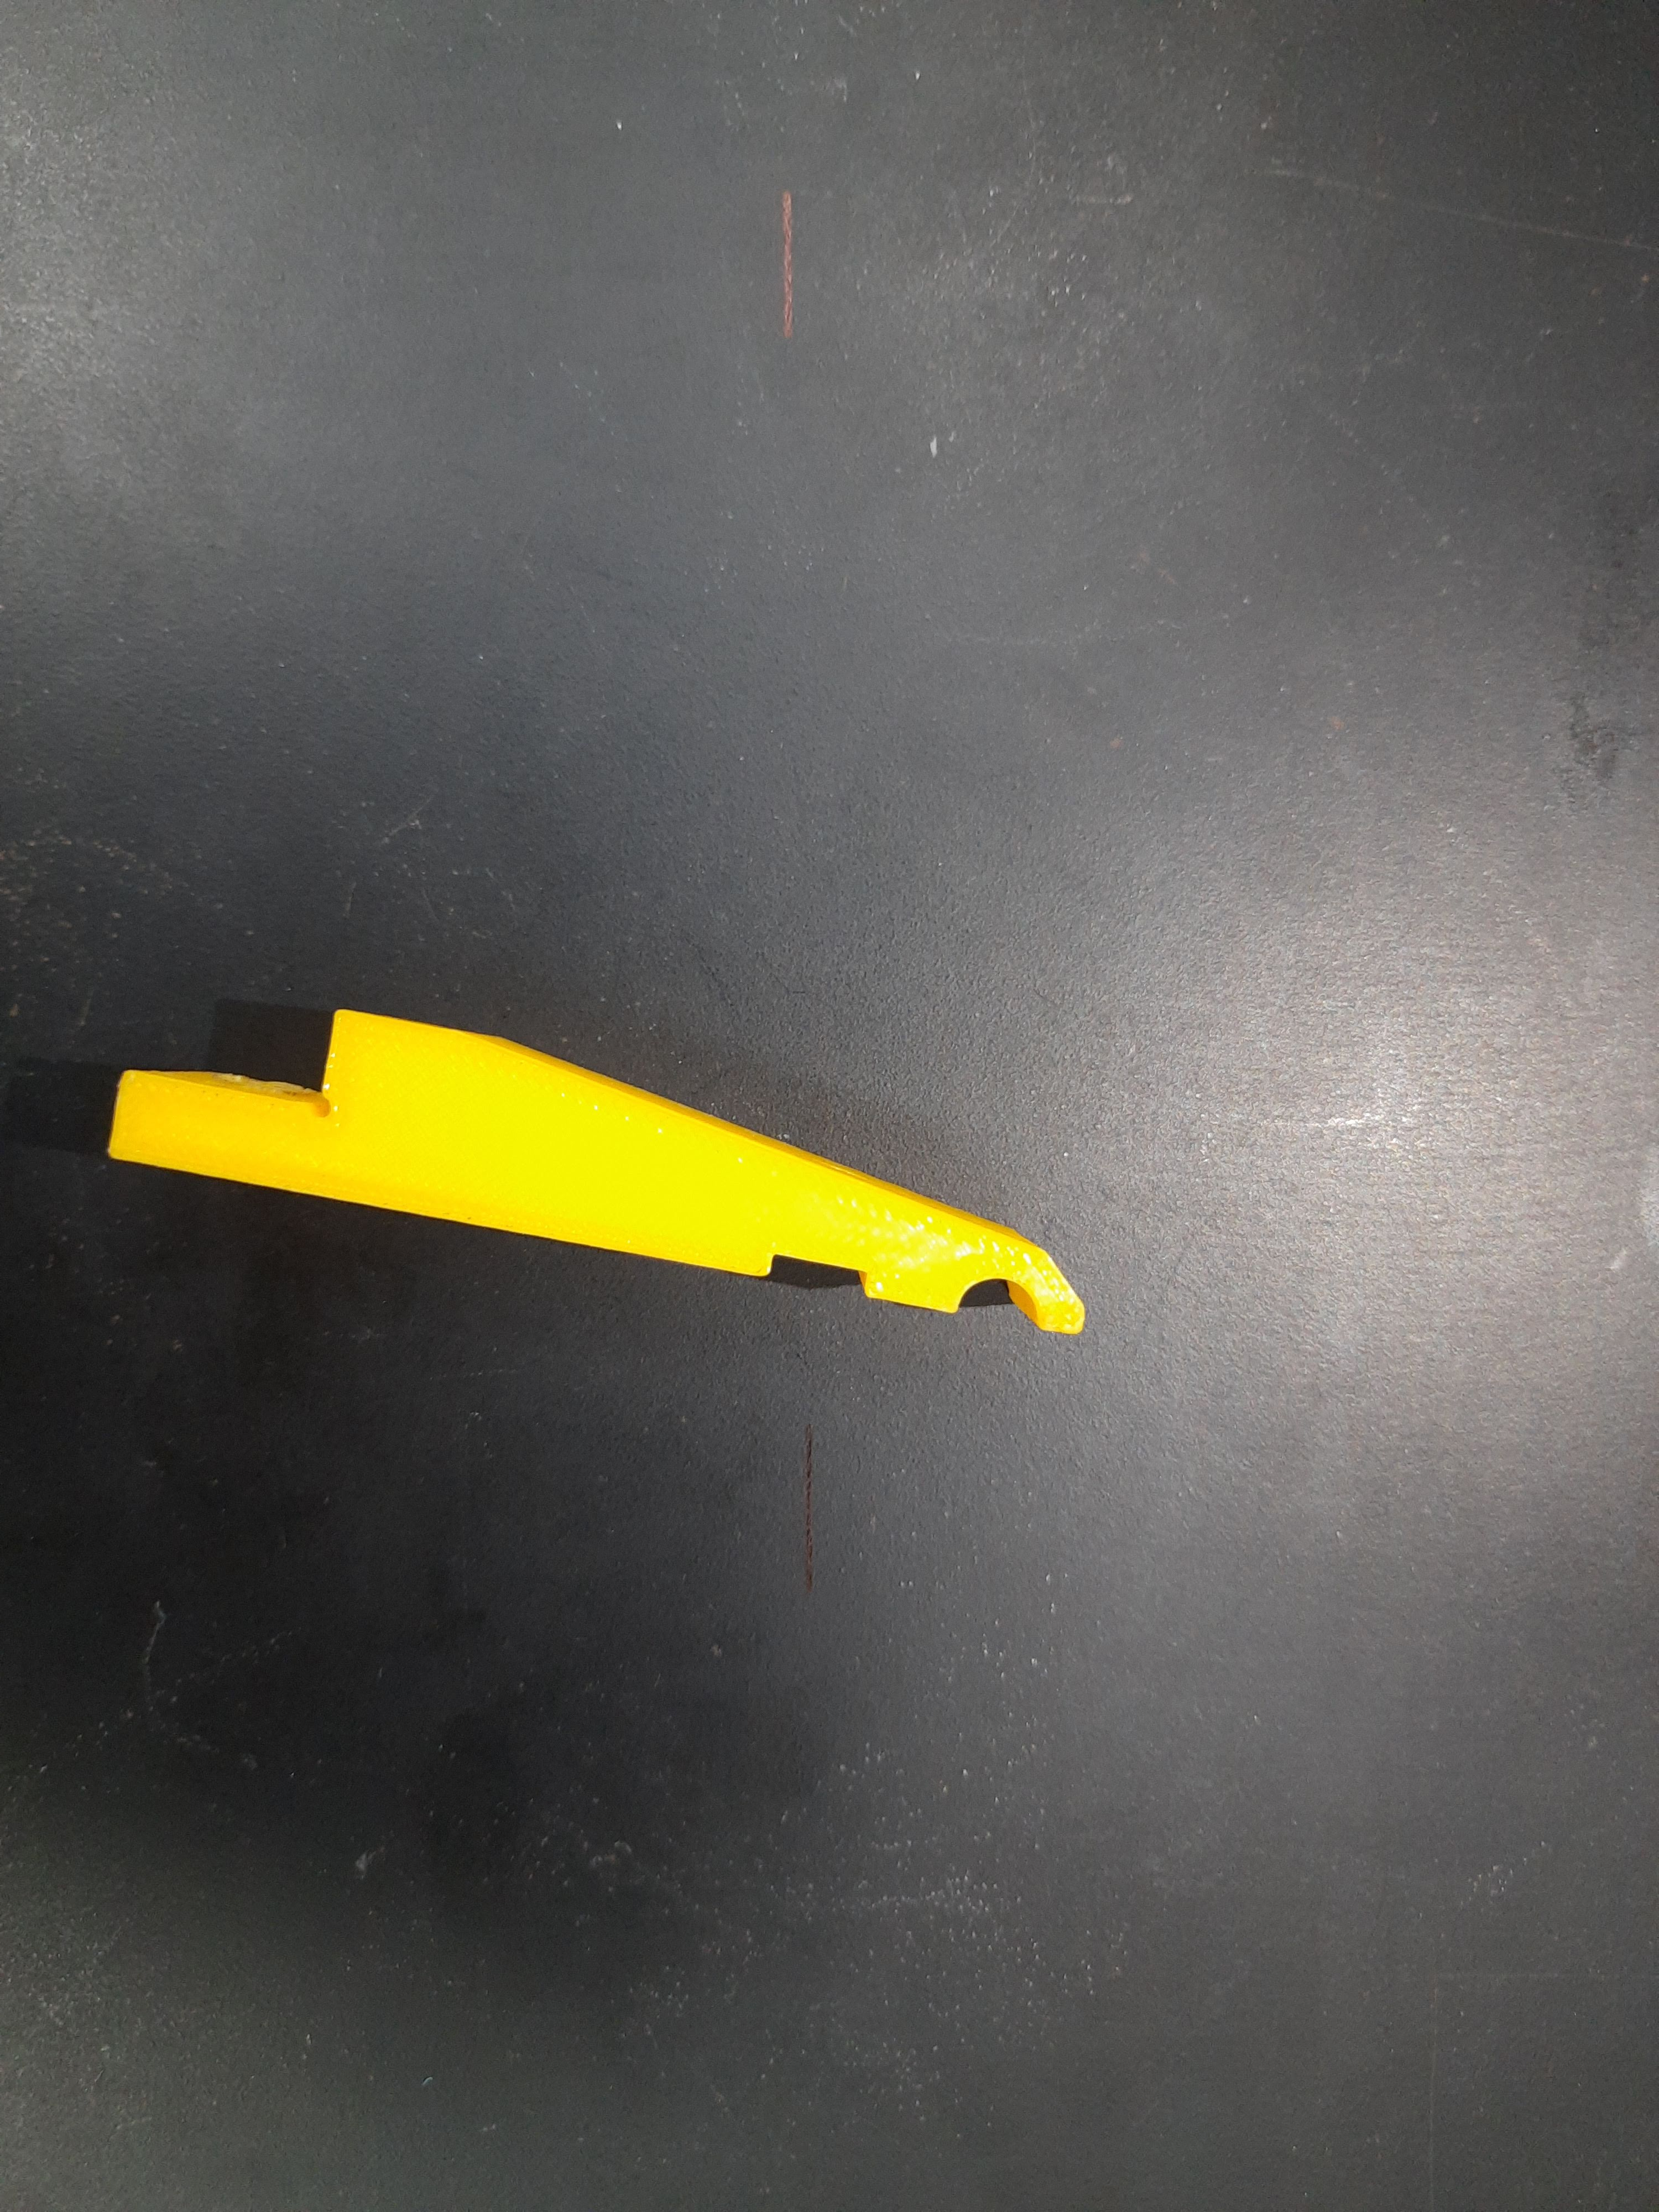YELLOW: (108, 956, 1121, 1339)
